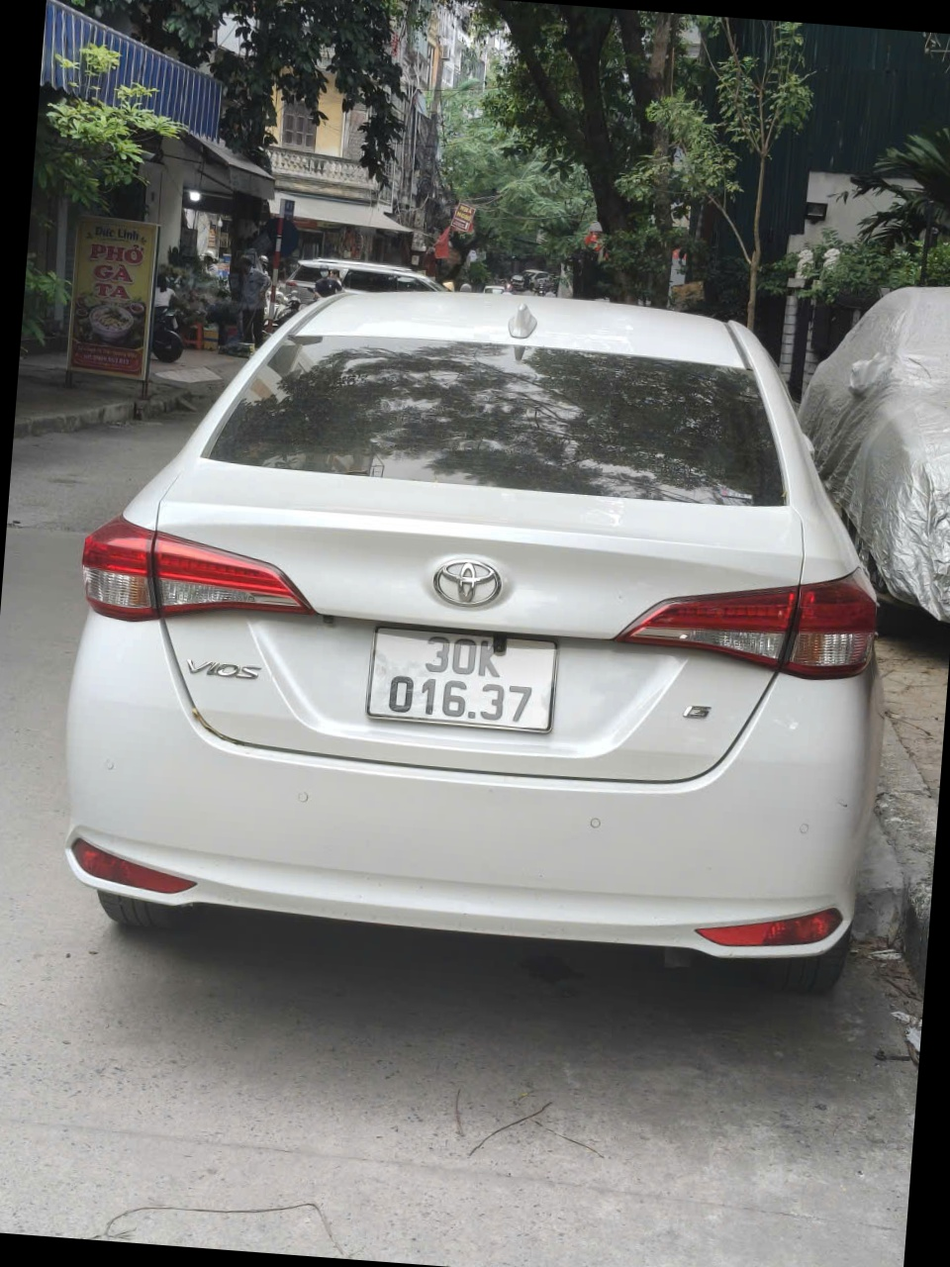plate: (297, 334, 451, 365)
